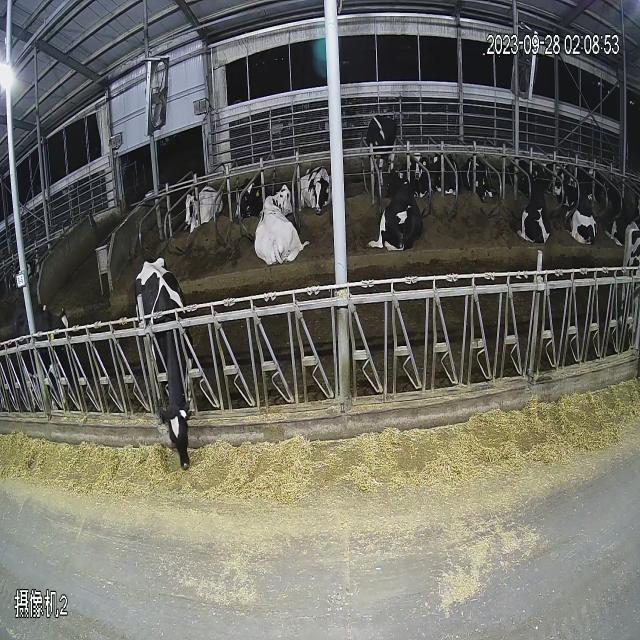feeding: (114, 230, 215, 507)
lying down: (254, 179, 318, 273), (558, 174, 612, 270), (178, 156, 234, 248), (514, 176, 562, 262), (464, 129, 506, 208), (298, 146, 338, 224), (436, 130, 466, 206), (412, 132, 438, 204)
